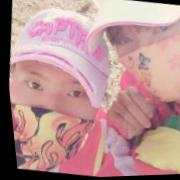OK: (101, 4, 180, 111)
WRONG: (6, 61, 102, 168)
